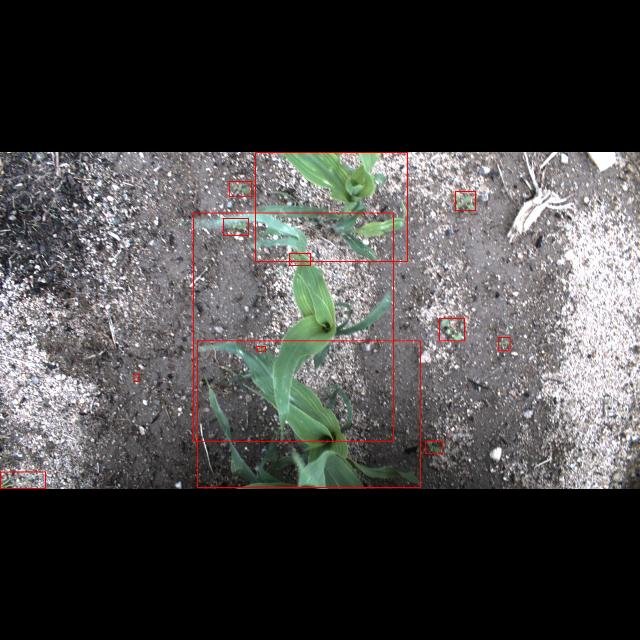crop: (193, 212, 393, 440), (198, 340, 420, 488), (255, 151, 407, 261)
weed: (0, 472, 46, 488), (440, 318, 464, 340), (224, 218, 248, 235), (455, 190, 475, 210), (229, 180, 251, 196), (290, 252, 310, 266), (426, 441, 442, 454), (498, 336, 510, 350), (256, 346, 266, 352), (134, 373, 140, 381)
